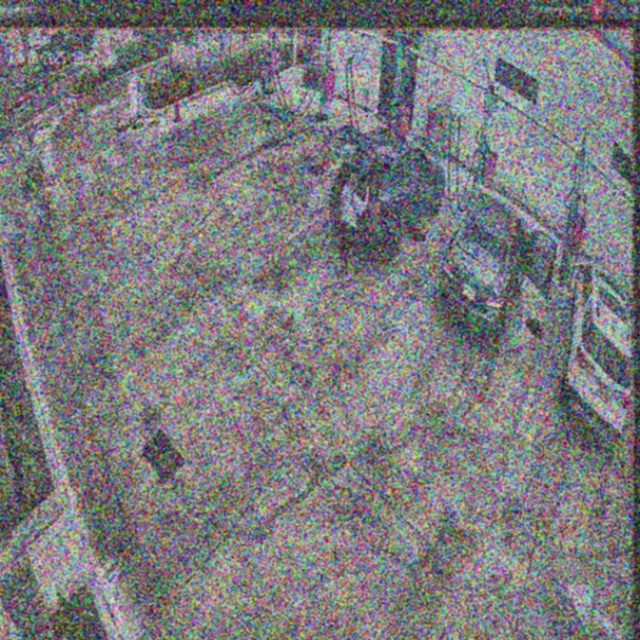Car: (330, 119, 444, 260), (440, 192, 553, 334)
